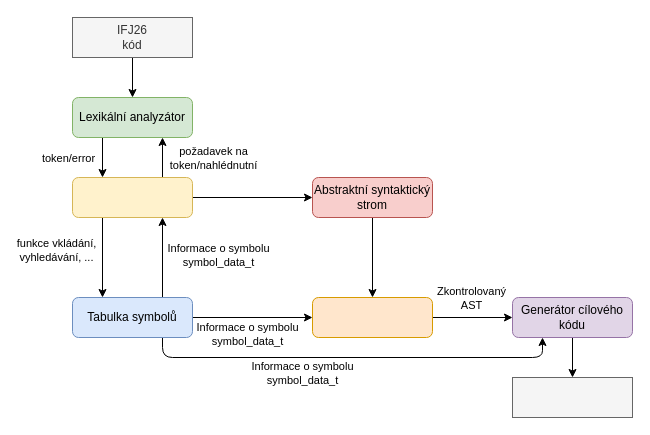
This 650x435 diagram has some shape labels left out. Each missing label, with the centre of its shape:
"IFJcode26 kód" goes at point (572, 397).
"Syntaktický analyzátor" goes at point (132, 197).
"Sémantický analyzátor" goes at point (372, 317).
